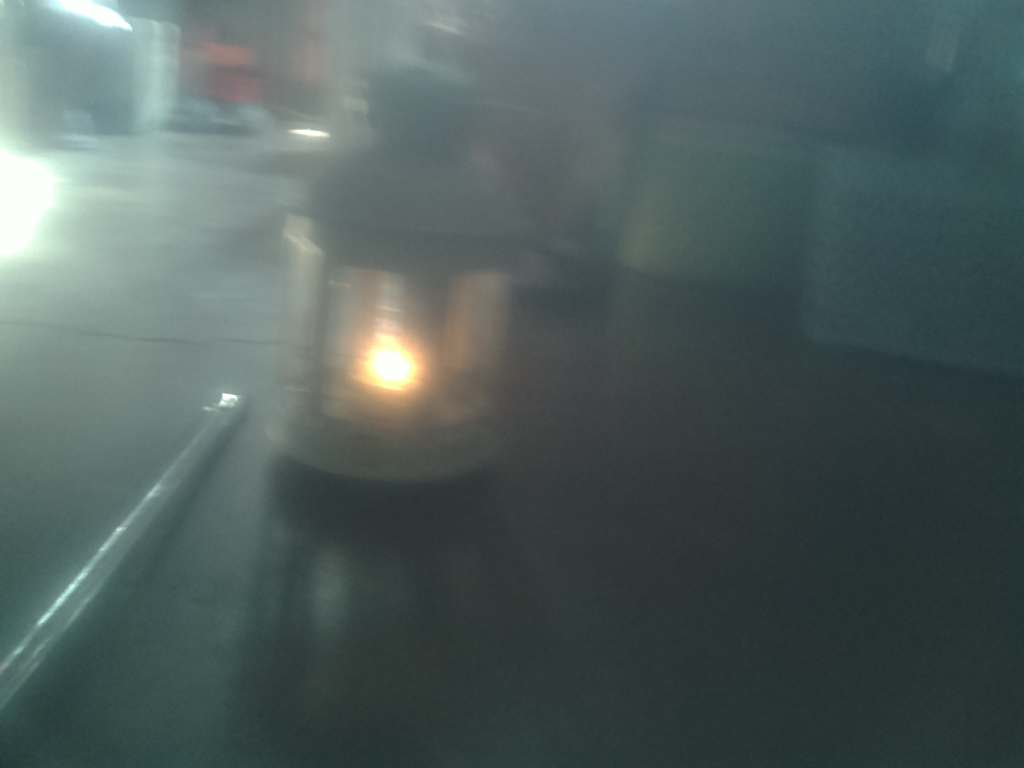fire: (338, 312, 463, 418)
